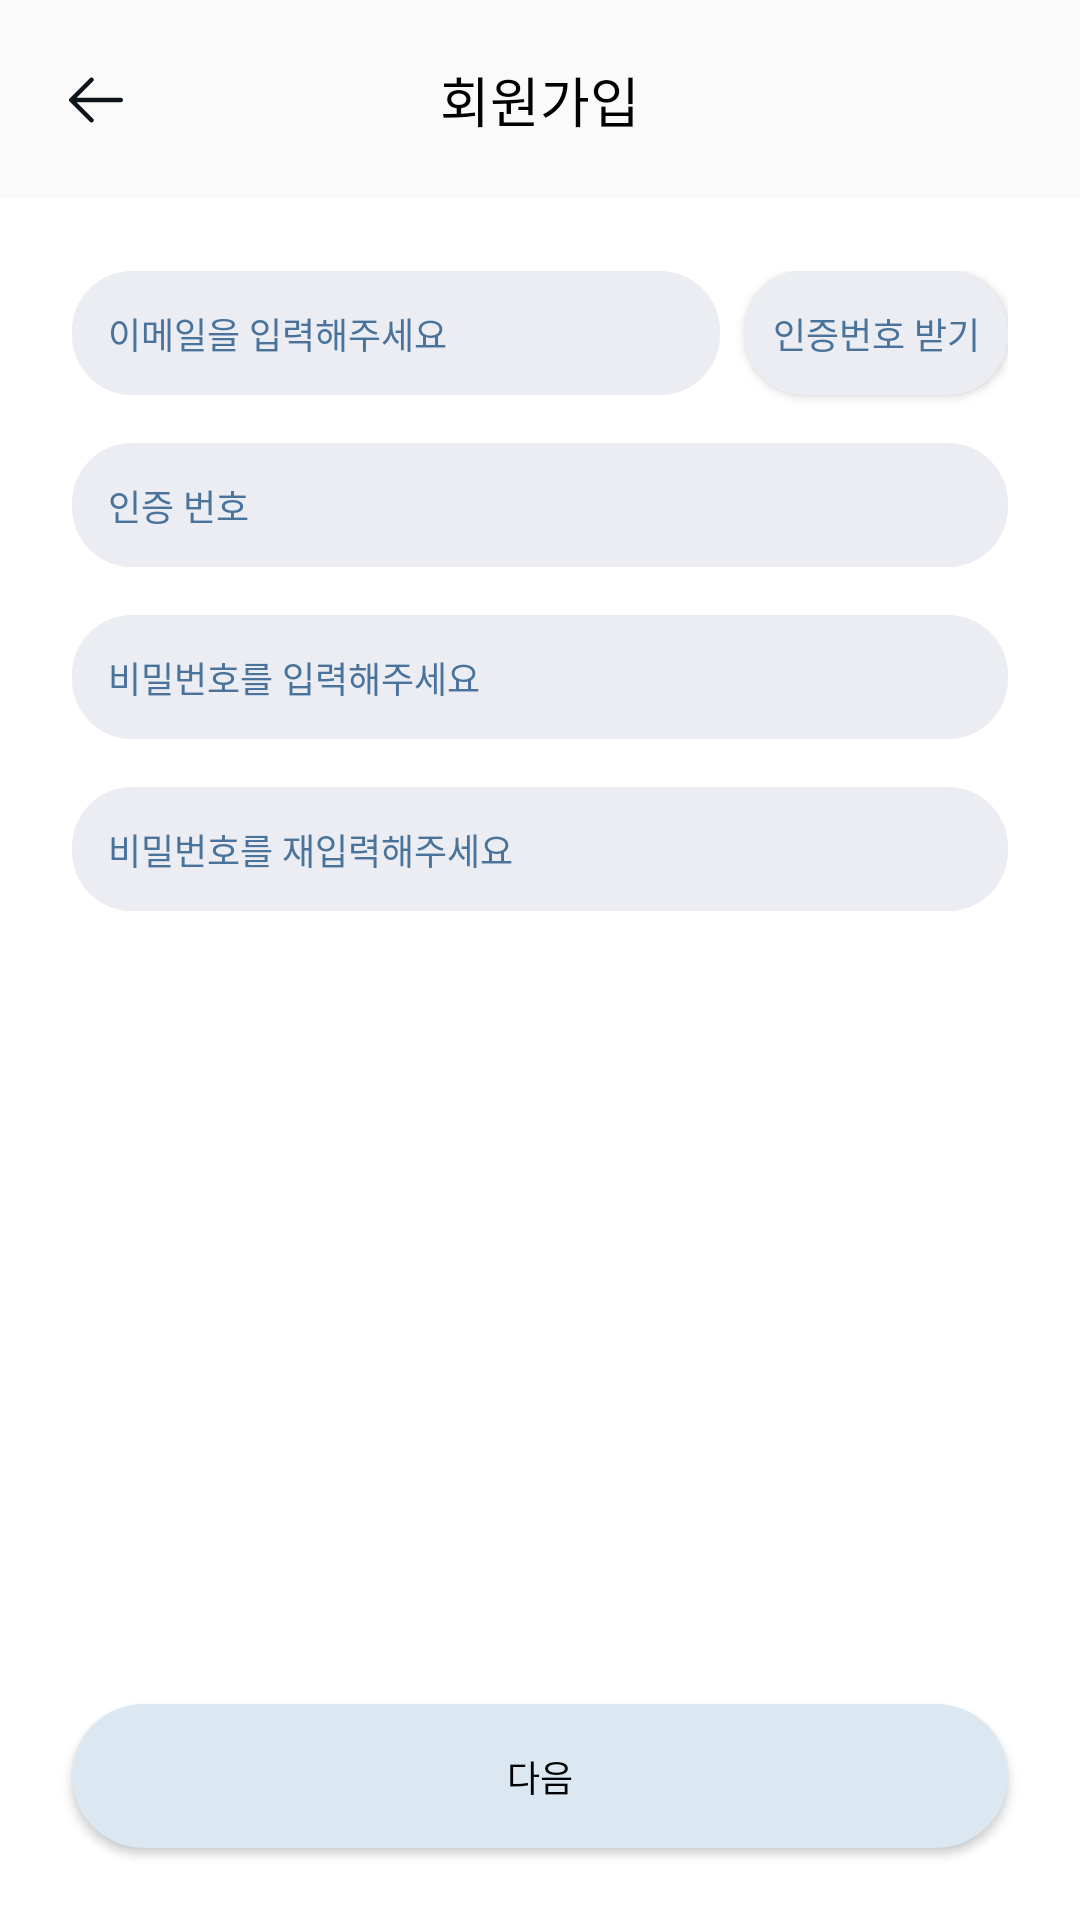

Icon bounding boxes for this 1080 x 1920 phone screenshot, format (x1, y1, x2, y2):
back: (69, 77, 123, 123)
